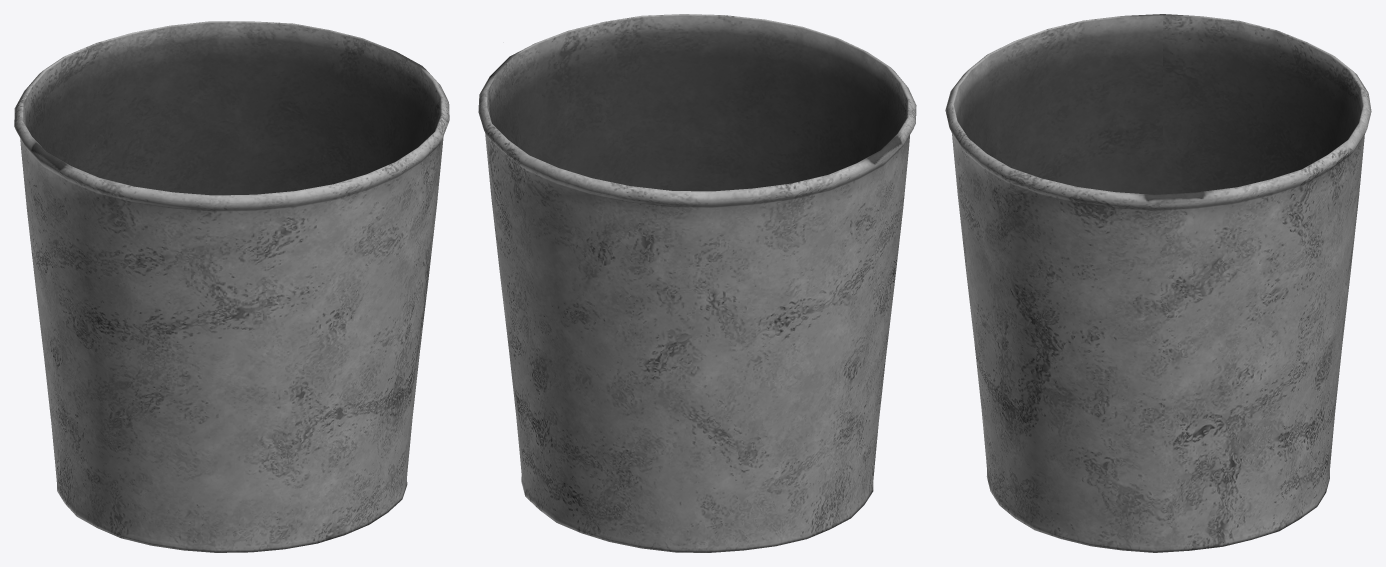
Rendered from backet.glb.
The picture shows the model from 3 angles, left to right: view 1: azimuth 30°, elevation 25°; view 2: azimuth 150°, elevation 25°; view 3: azimuth 270°, elevation 25°; orthographic projection.
Visible parts, largest first — view 1: bucket_bucket.Material_0; view 2: bucket_bucket.Material_0; view 3: bucket_bucket.Material_0.
Part boxes in pixels (x1,y1,x2,y2): bucket_bucket.Material_0: (14, 21, 449, 552); bucket_bucket.Material_0: (478, 14, 916, 552); bucket_bucket.Material_0: (945, 14, 1371, 552).
Bounding box in the file's own units: 0.2177 × 0.2255 × 0.2097.
1 material, 1 textured.
